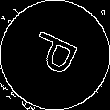P_SE: (24, 28, 86, 82)
